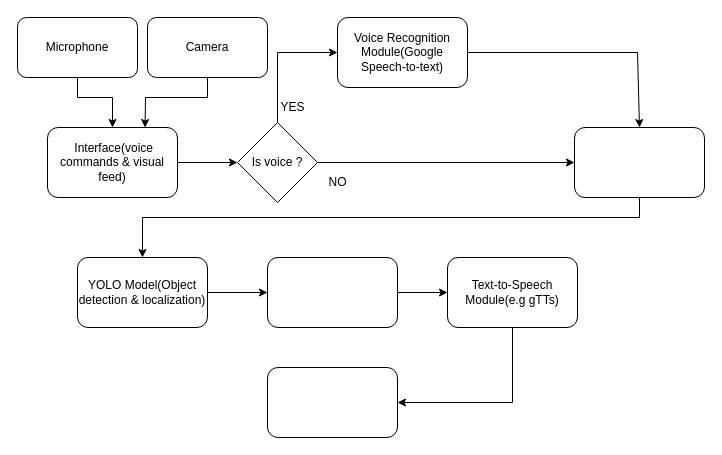
The diagram is 722 pixels wide and 455 high, and some of its shapes have lost their labels. The centre of each missing label's shape, as x and y in pixels:
Audio Output Device(Speaker): [332,402]
Command Processor(interprets voice commands & triggers object detection): [639,162]
Object Recognition Output(Detected Objects & Their locations): [332,292]
